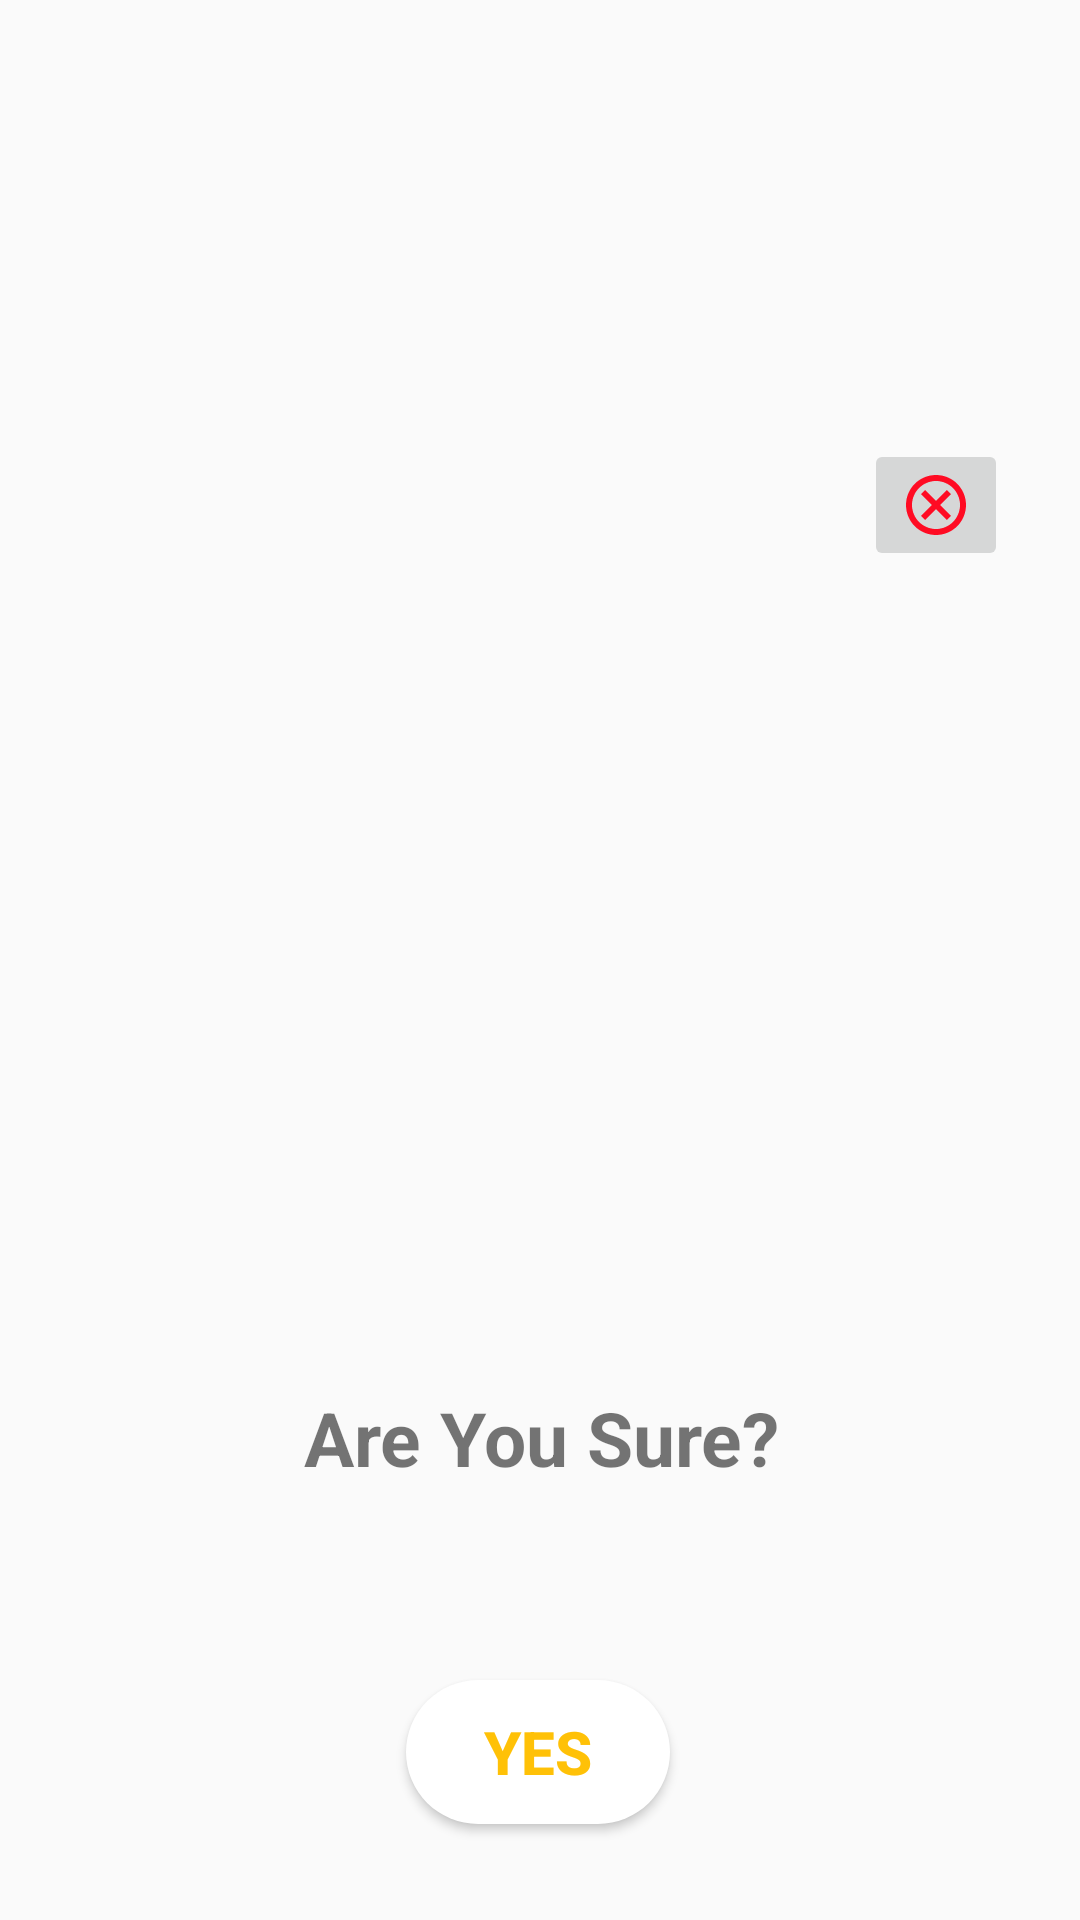

Icon click points for this 1080×1920 phone screenshot, format [x,y]:
cancel: [936,505]
